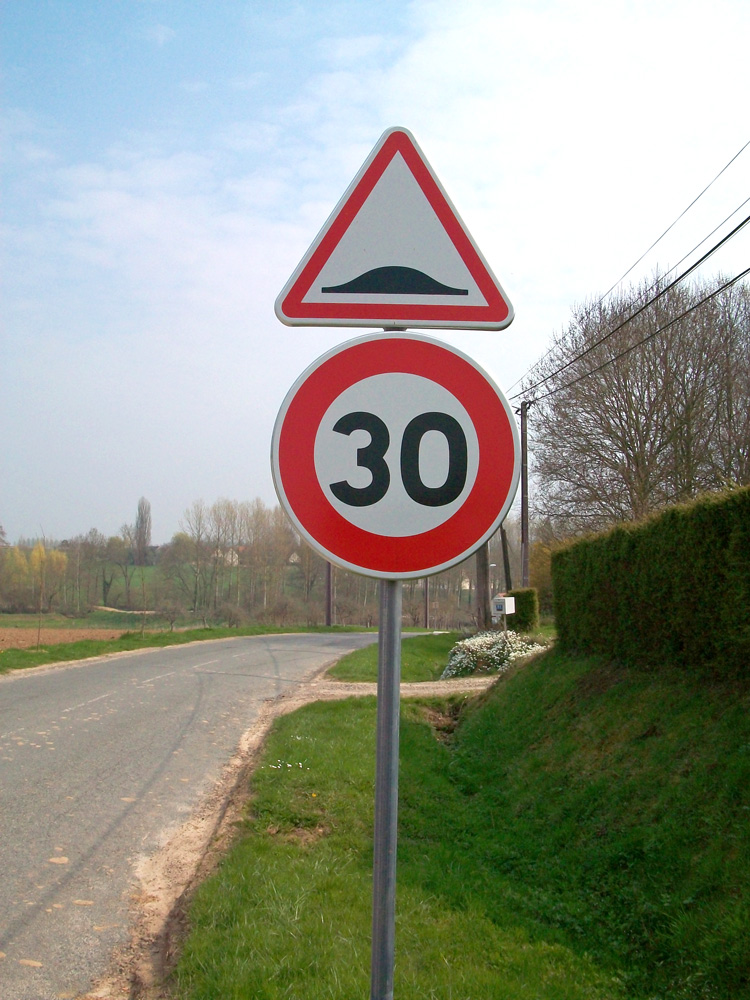Speed_limit_30km: (269, 332, 512, 576)
